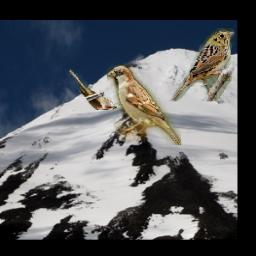Cuckoo: (68, 69, 117, 110)
Sparrow: (107, 66, 181, 146), (168, 29, 235, 102)
